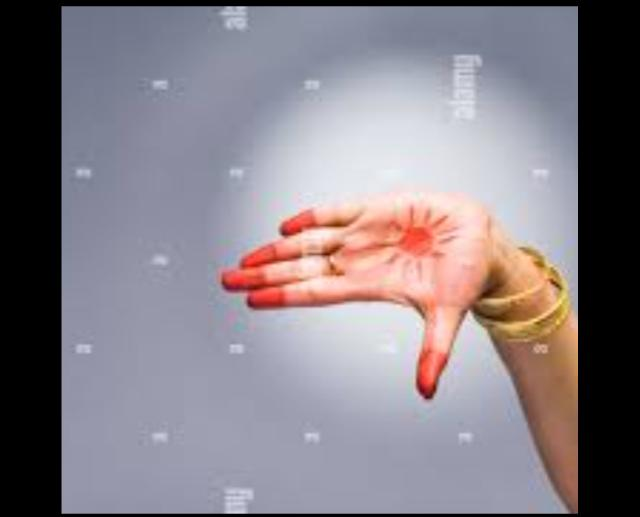ardhachandra: (215, 124, 542, 423)
